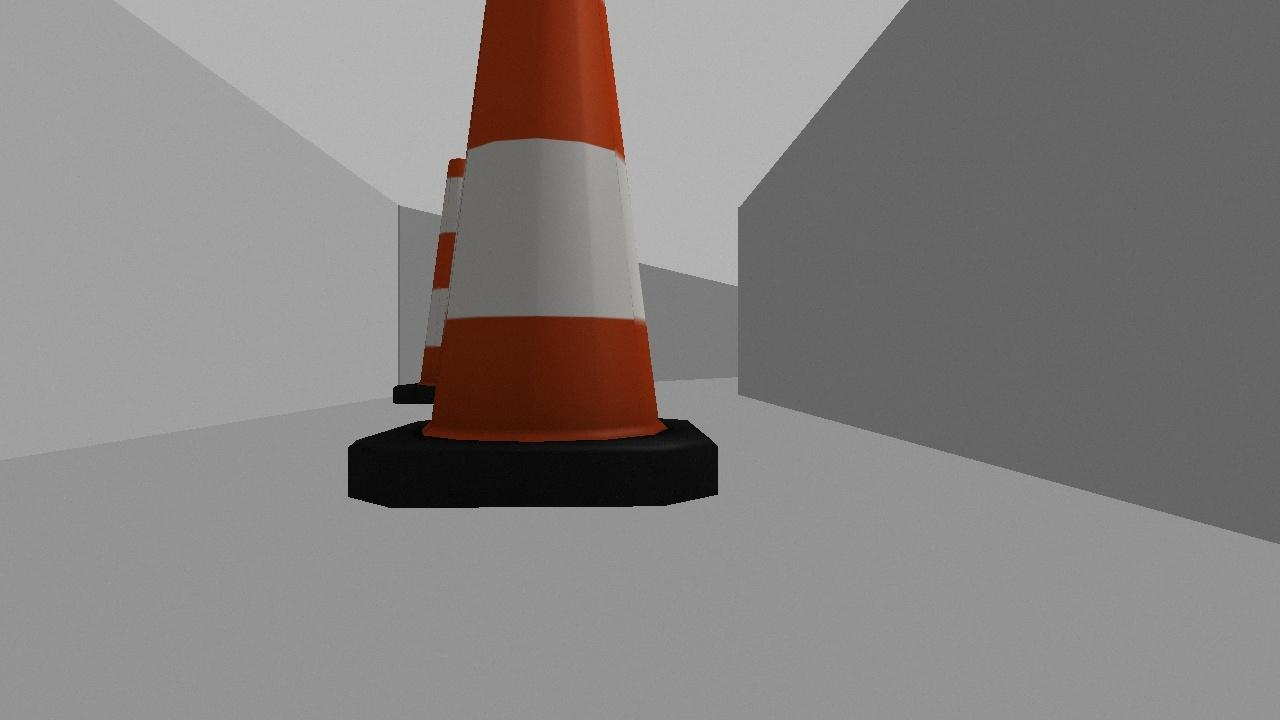cone_barrel: (325, 0, 744, 519), (385, 151, 511, 411)
